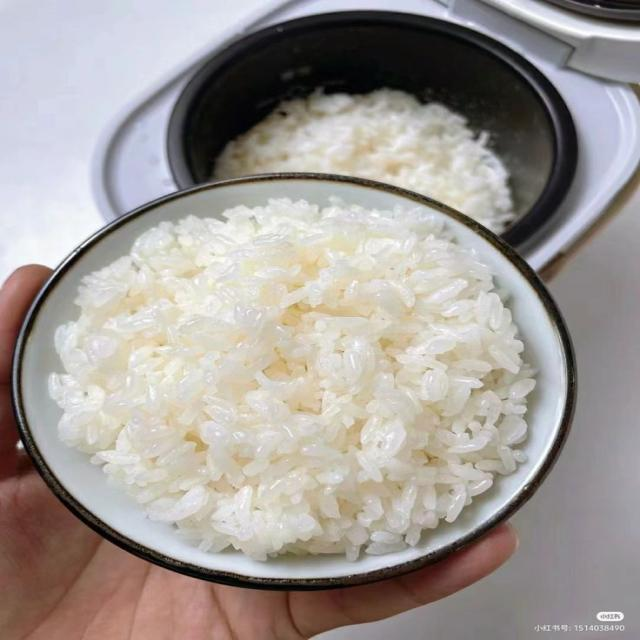rice: (50, 200, 534, 559), (214, 89, 513, 232)
